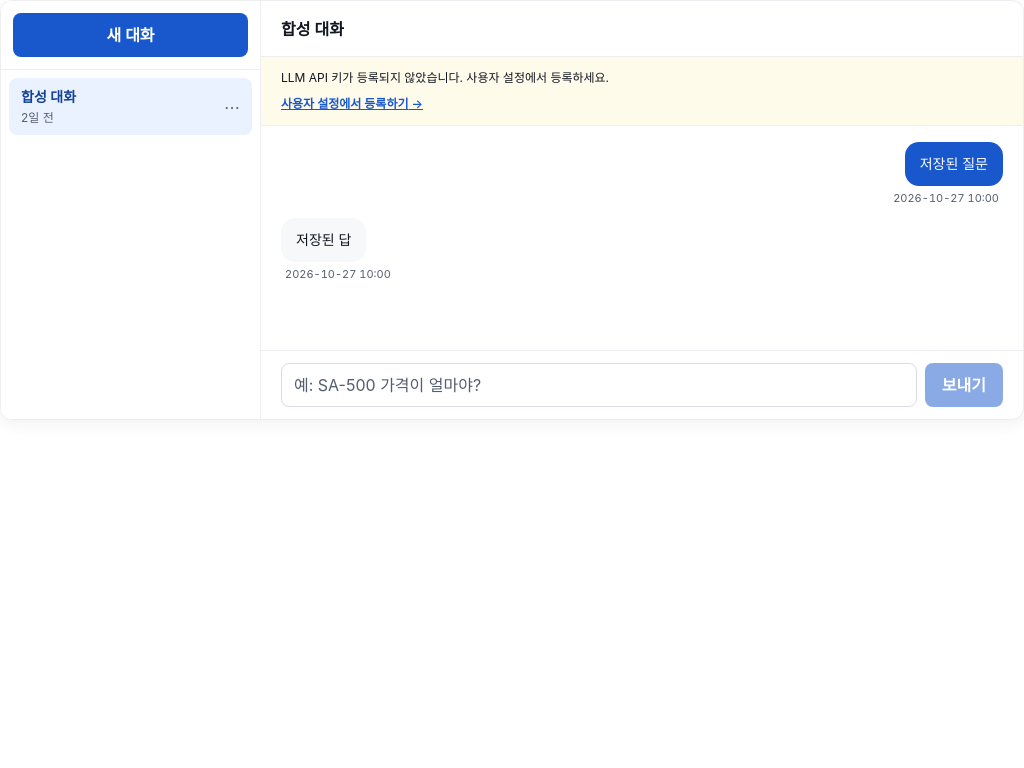
챗 버블 진입 — 실제 애니메이션 (skipAnimations 끔) › ② 새 메시지가 추가되면 그 버블만 fadeUp(8px) 으로 진입하고, 기존 버블은 그대로다
Expected: the text "저장된 답" is shown, [296,229,352,251]
Type "질문" into the field named "질문 입력". click: (599, 385)
box: [281,363,917,407]
Then press Enter
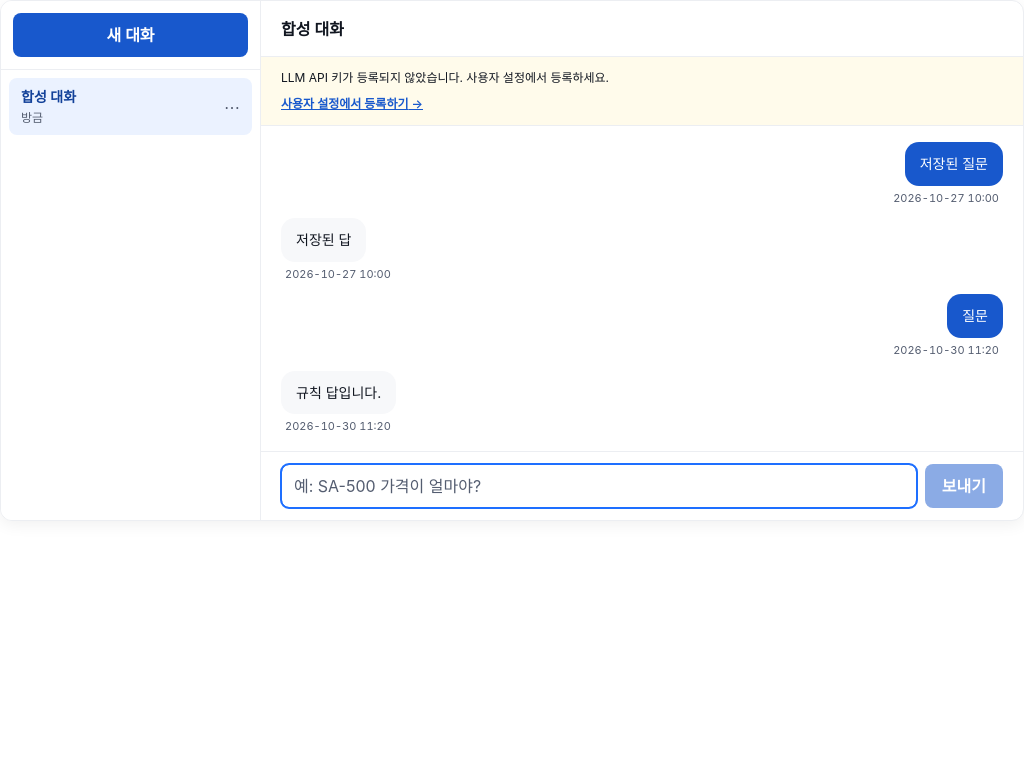
Expected: the text "규칙 답입니다." is shown, [296,382,381,403]
